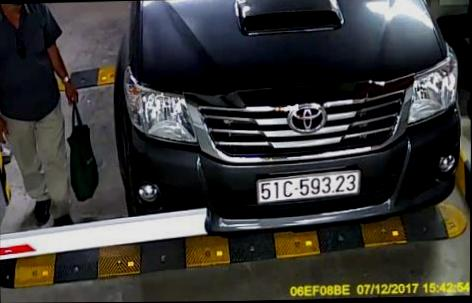License_Plate: (247, 161, 363, 204)
